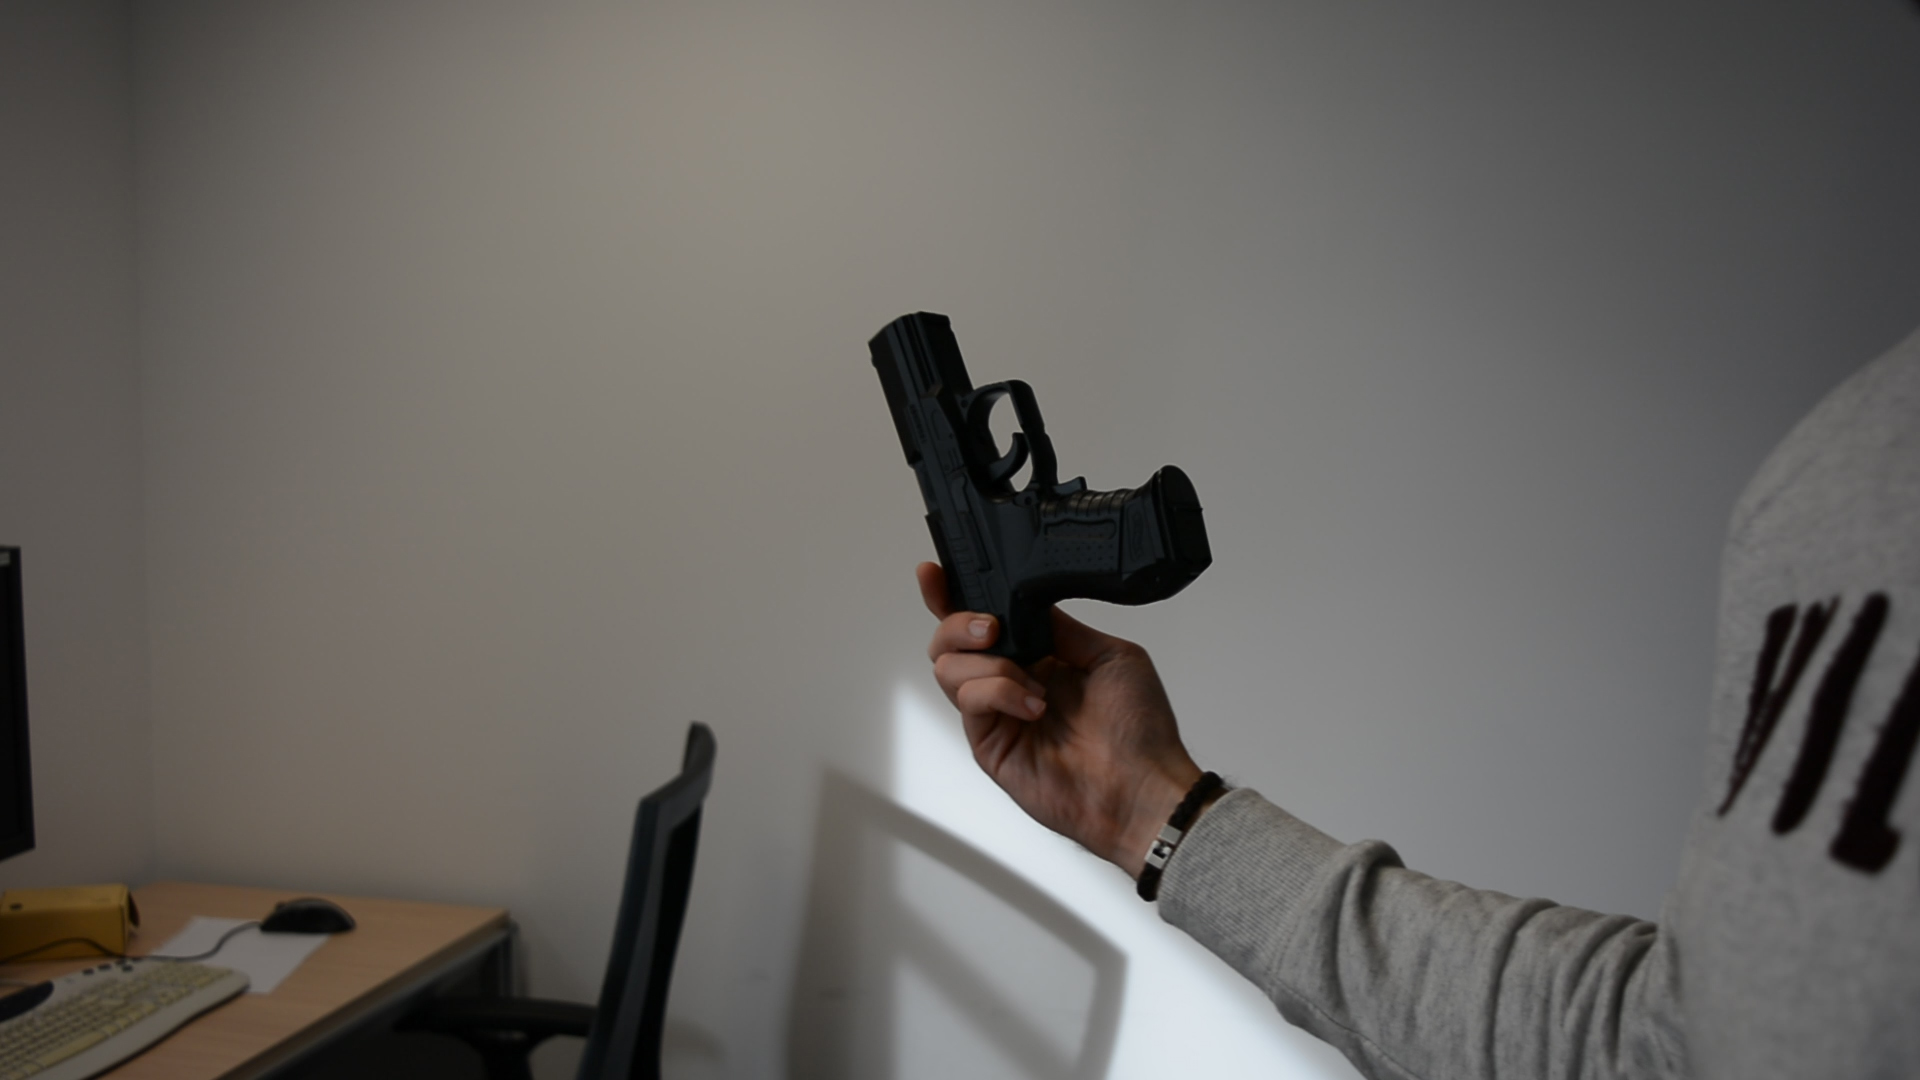pistol: (866, 310, 1216, 669)
